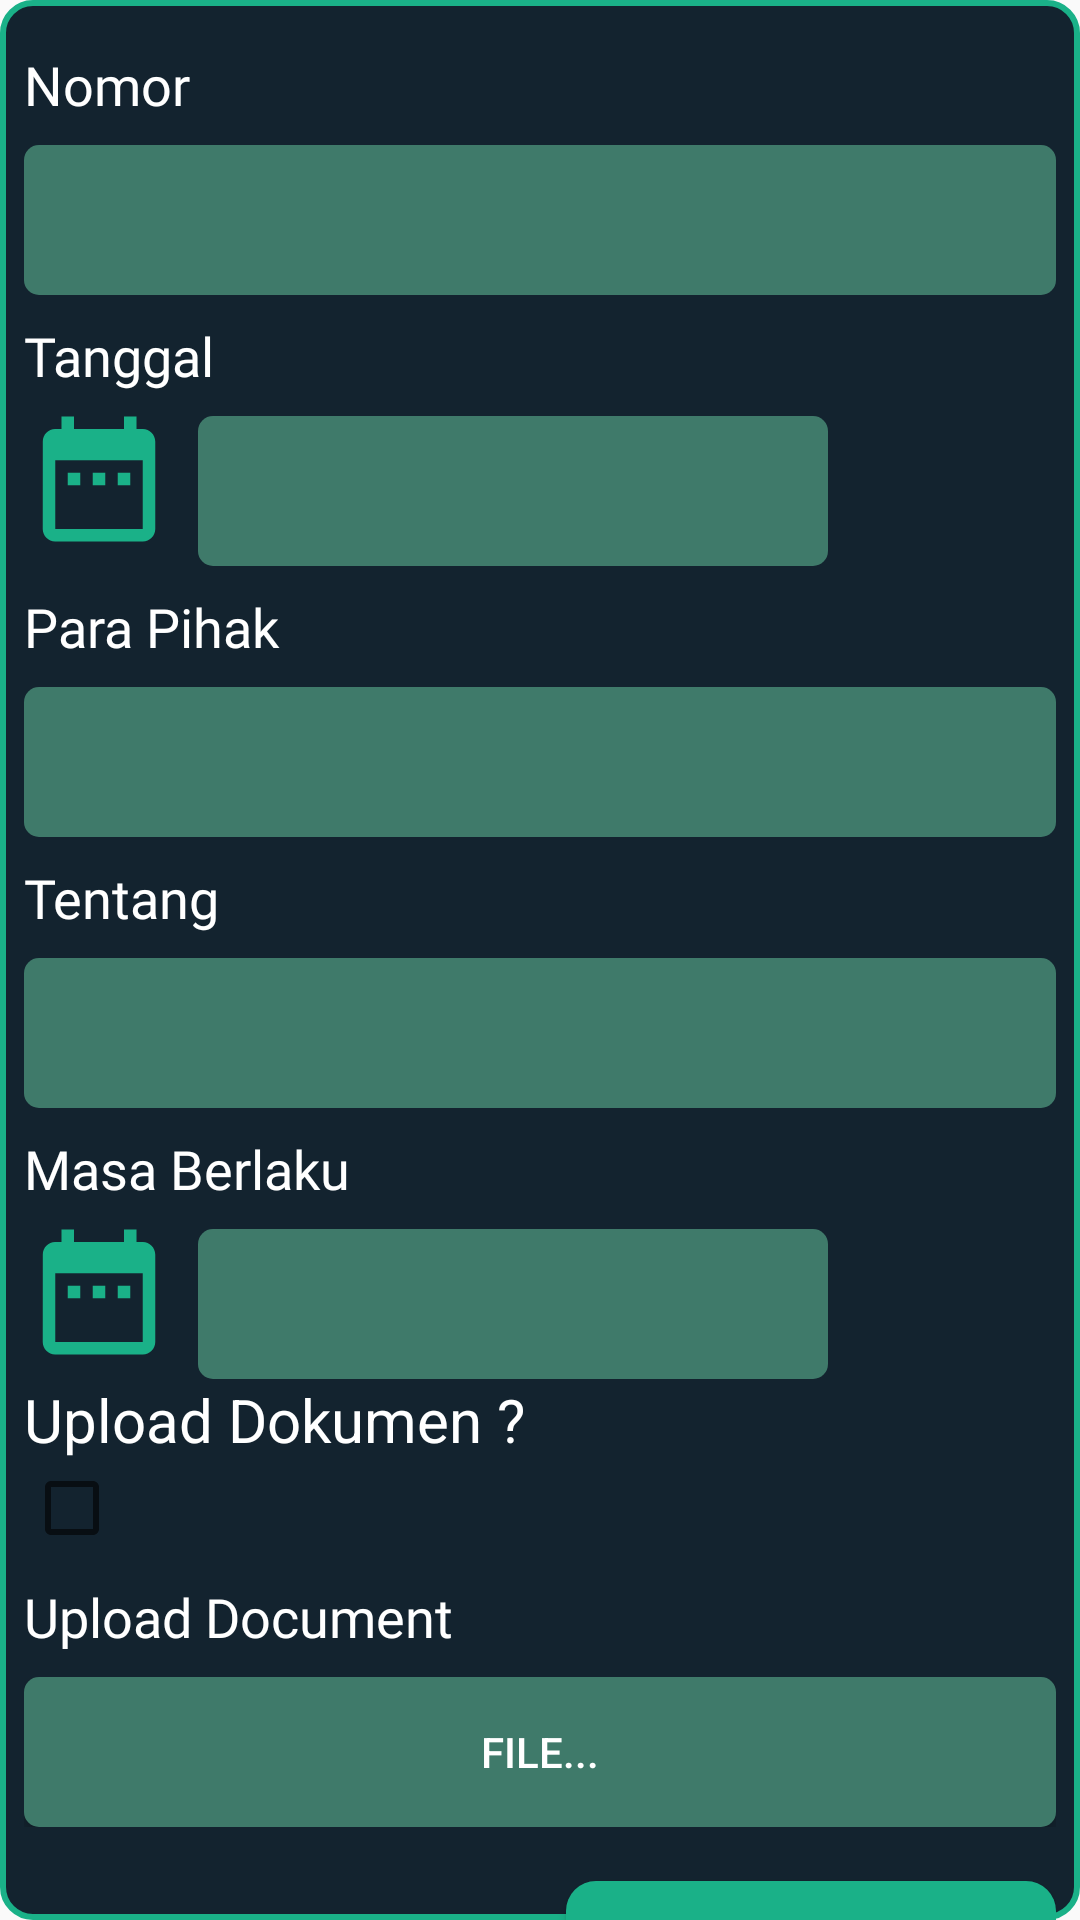

Where to tap for icons on this 1080×1920 app screen, as point (x, y):
date: point (99, 479), point (99, 1292)
